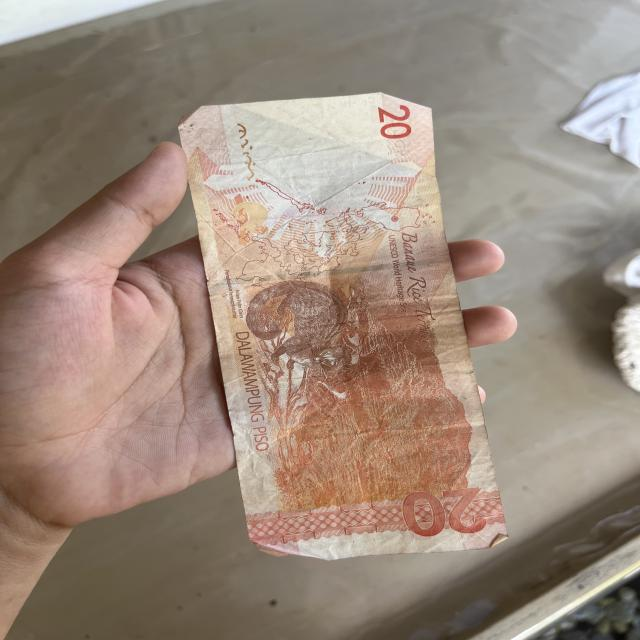20_civet: (237, 276, 349, 376)
20_civet_watermark: (231, 197, 275, 249)
